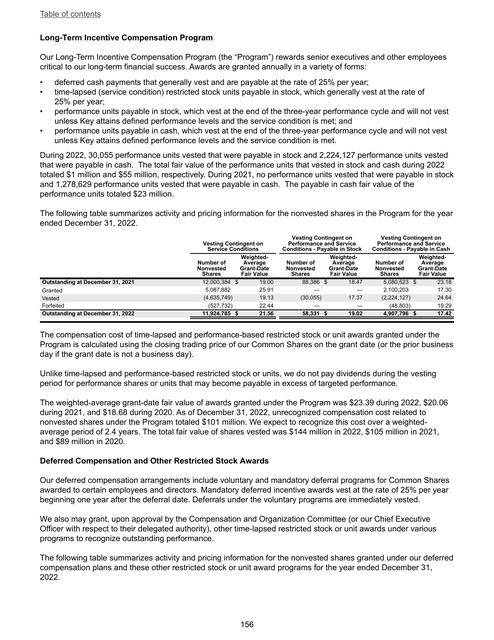box: (41, 234, 456, 325)
